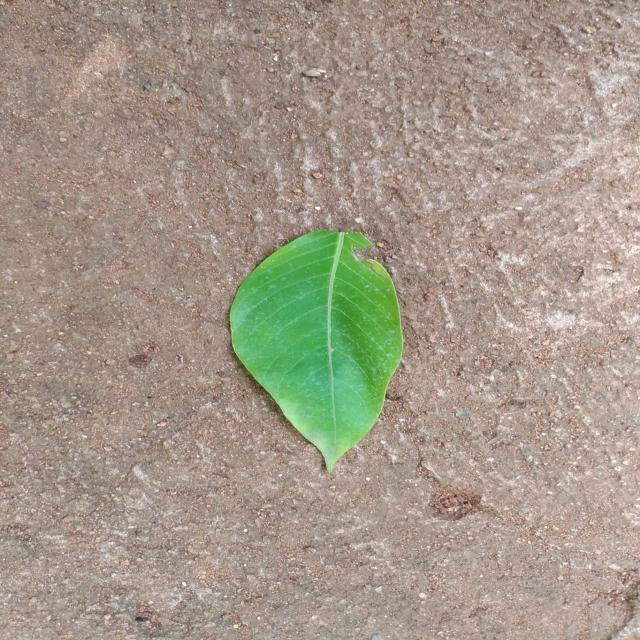malabar_nut: (229, 230, 402, 470)
